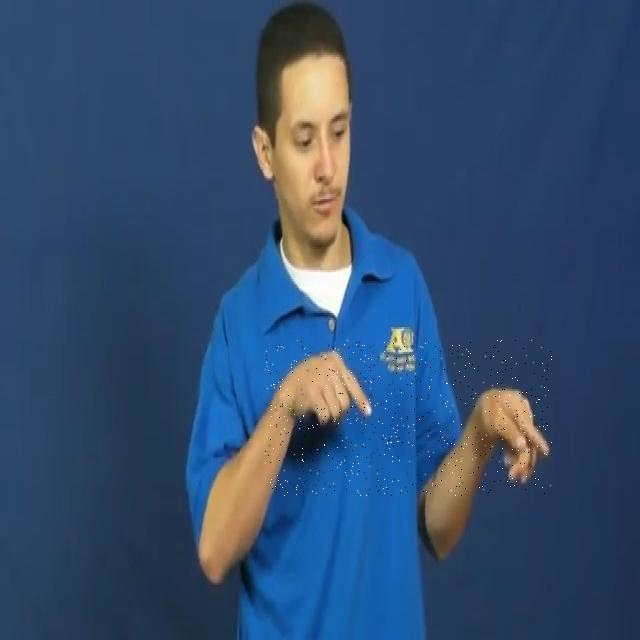order: (265, 340, 552, 496)
